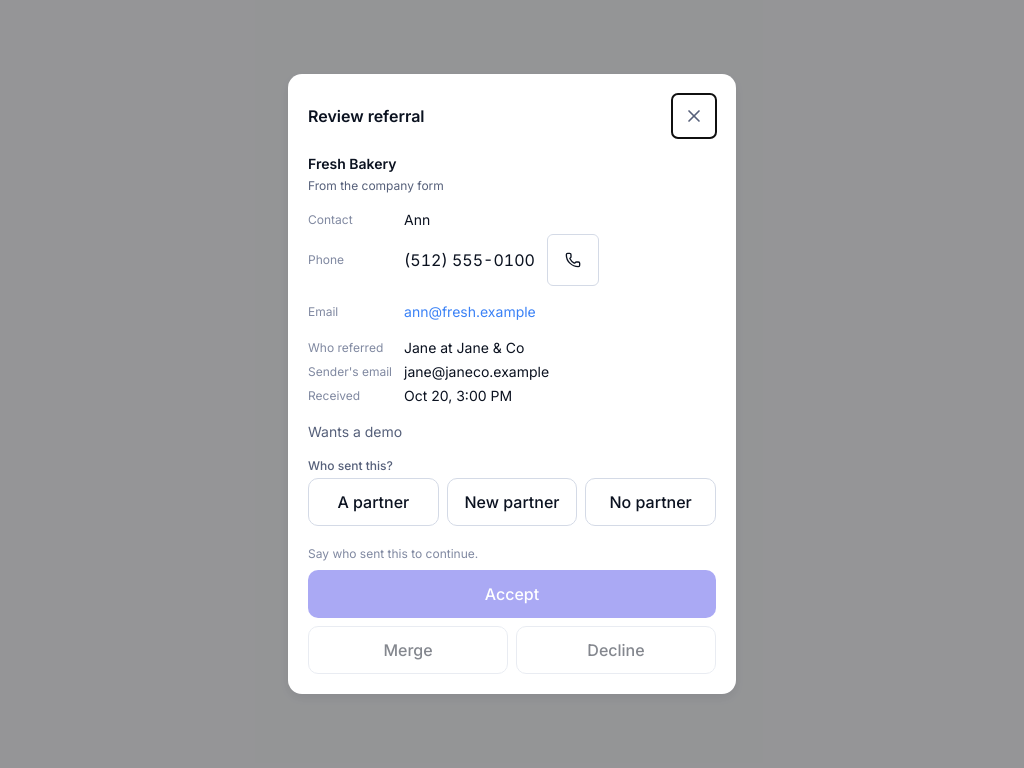
Test case: ReviewFormSubmissionSheet › company link with no partner keeps the usual actions (an administrator can decline spam)
Click the button "No partner" at {"x": 651, "y": 502}, box [585,478,716,526]
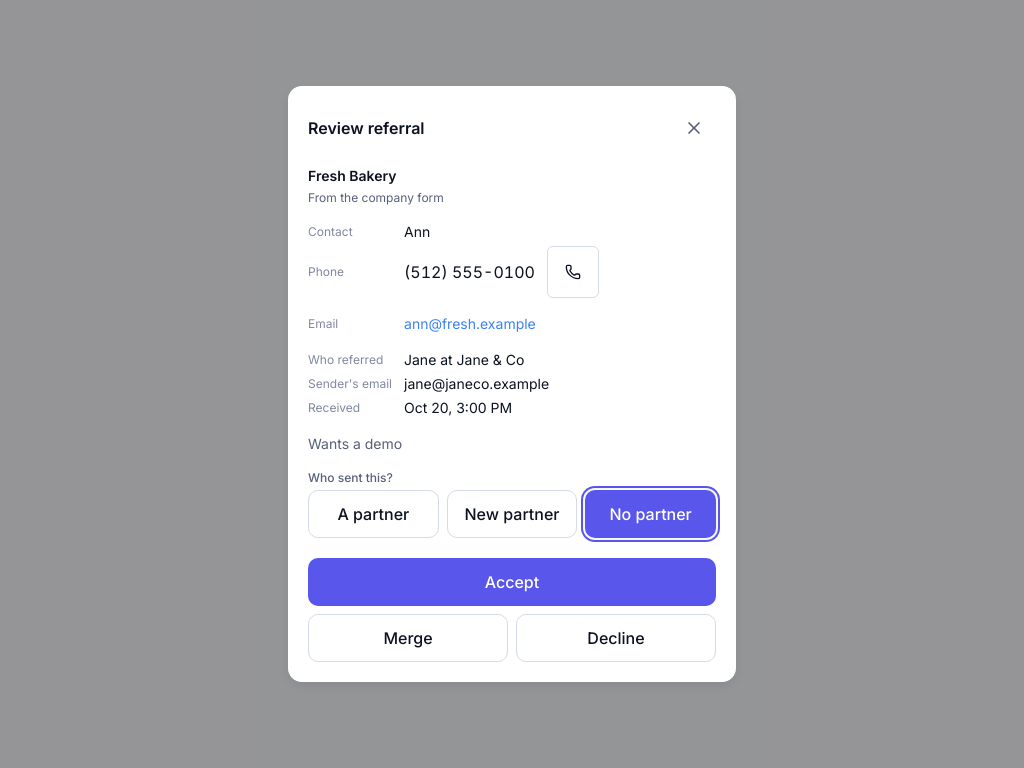
Expected: the button "Accept" is enabled, [308,558,716,606]
Expected: the button "Decline" is enabled, [516,614,716,662]
Expected: the button "Merge" is enabled, [308,614,508,662]
